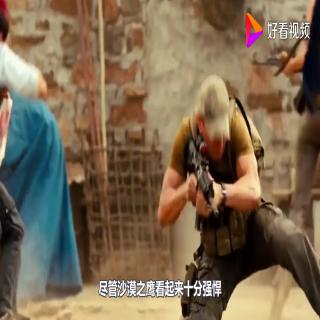gun: (183, 135, 220, 219)
